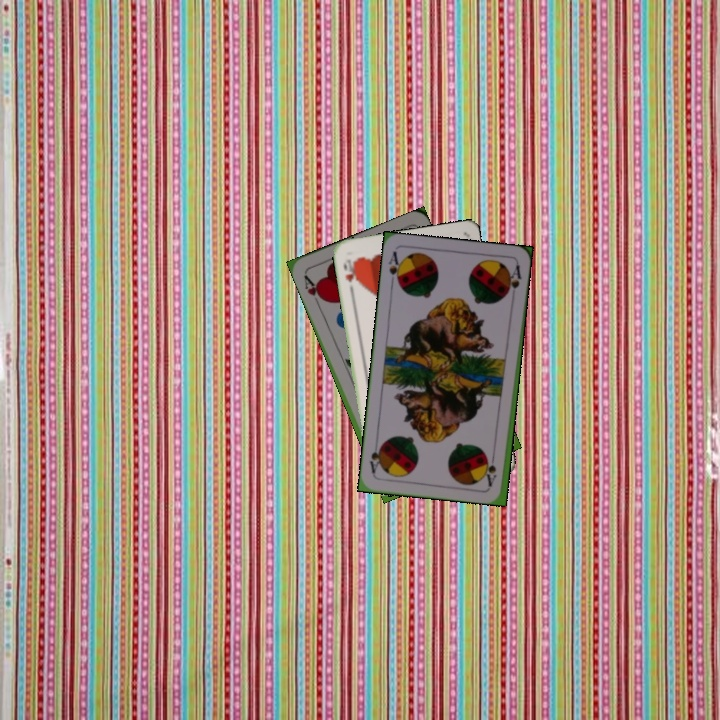HA: (300, 271, 326, 309)
HO: (339, 255, 360, 294)
SA: (384, 248, 405, 289), (484, 447, 499, 488)
